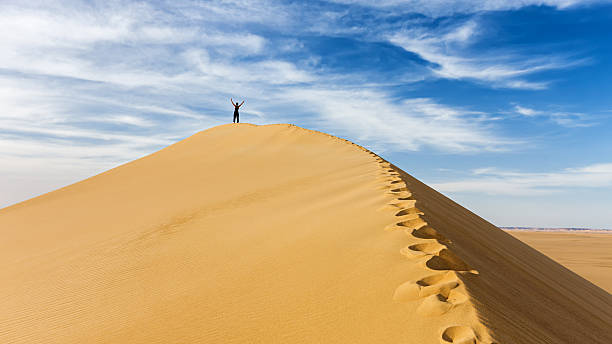human_footprint: (380, 162, 476, 316), (393, 272, 459, 301), (440, 325, 480, 344), (400, 241, 445, 257)
